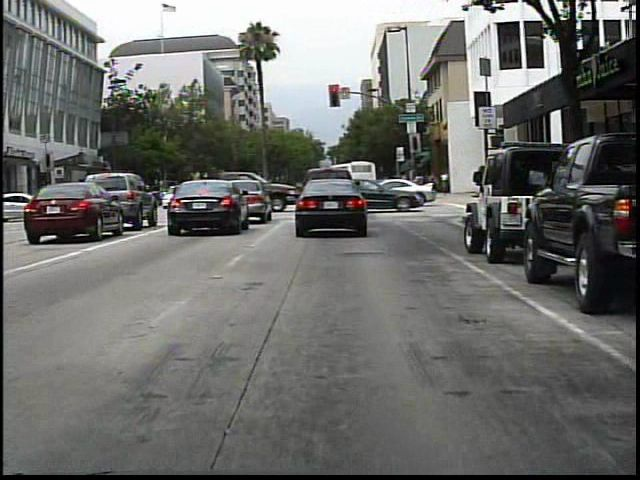person: (425, 167, 440, 199), (439, 168, 452, 195)
